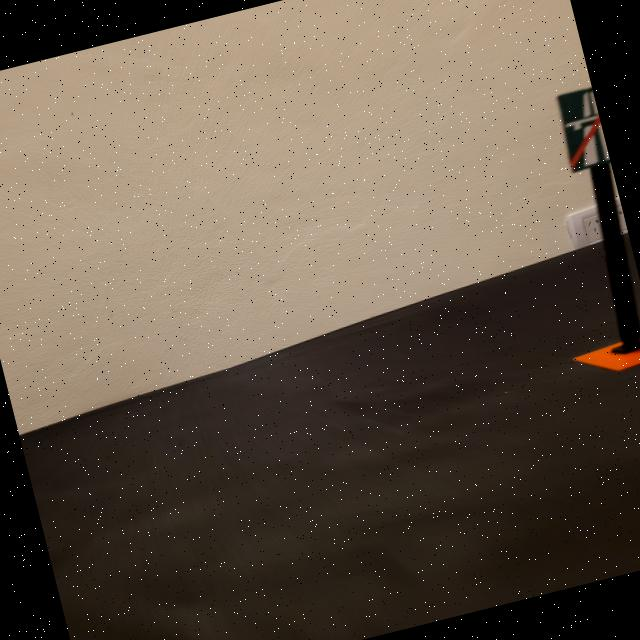highway_exit: (552, 86, 610, 172)
